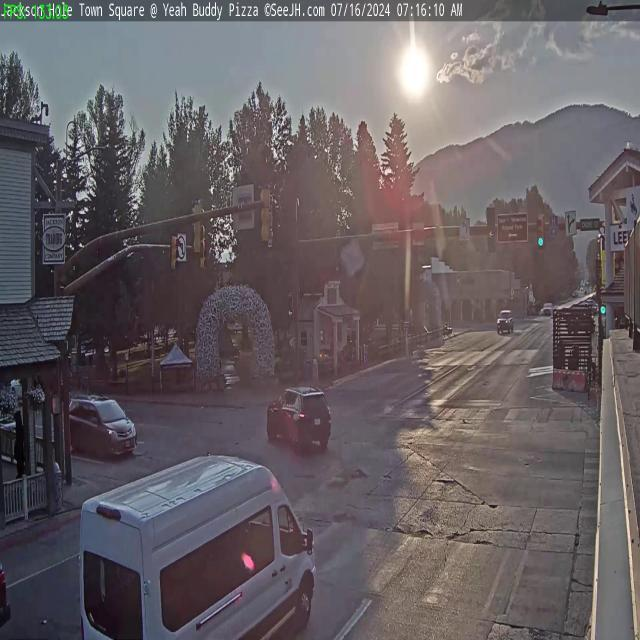minivan: (65, 387, 136, 459)
suv: (265, 381, 331, 457), (494, 308, 514, 336)
traffic light: (260, 184, 273, 243), (190, 198, 203, 254), (487, 206, 496, 253), (536, 214, 546, 248)
van: (76, 448, 314, 639)
